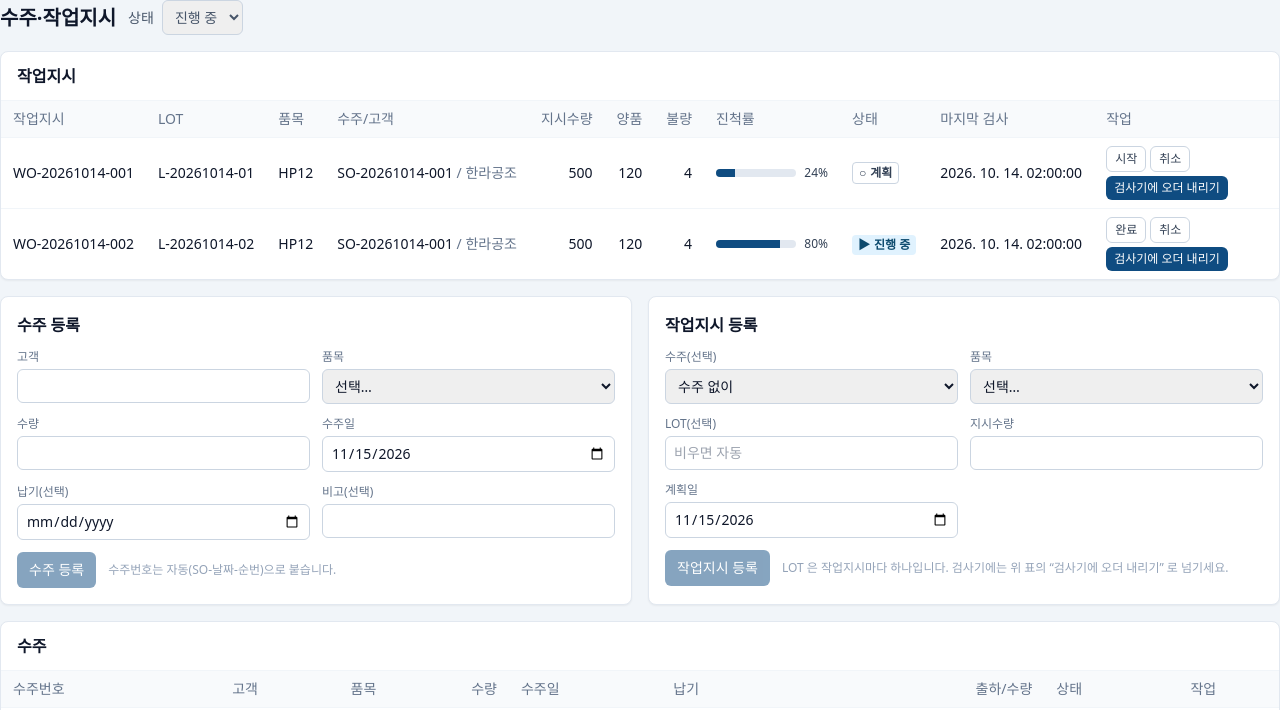
Test case: MesOrdersPage — 등록 › 작업지시 등록: 수주를 고르면 품목·남은 수량이 채워지고, 그 본문으로 POST
Select "SO-20261014-001 · 한라공조 · HP12 500개" in the dropdown with test id "wo-so" at (812, 386), box x1=665 y1=369 x2=958 y2=404
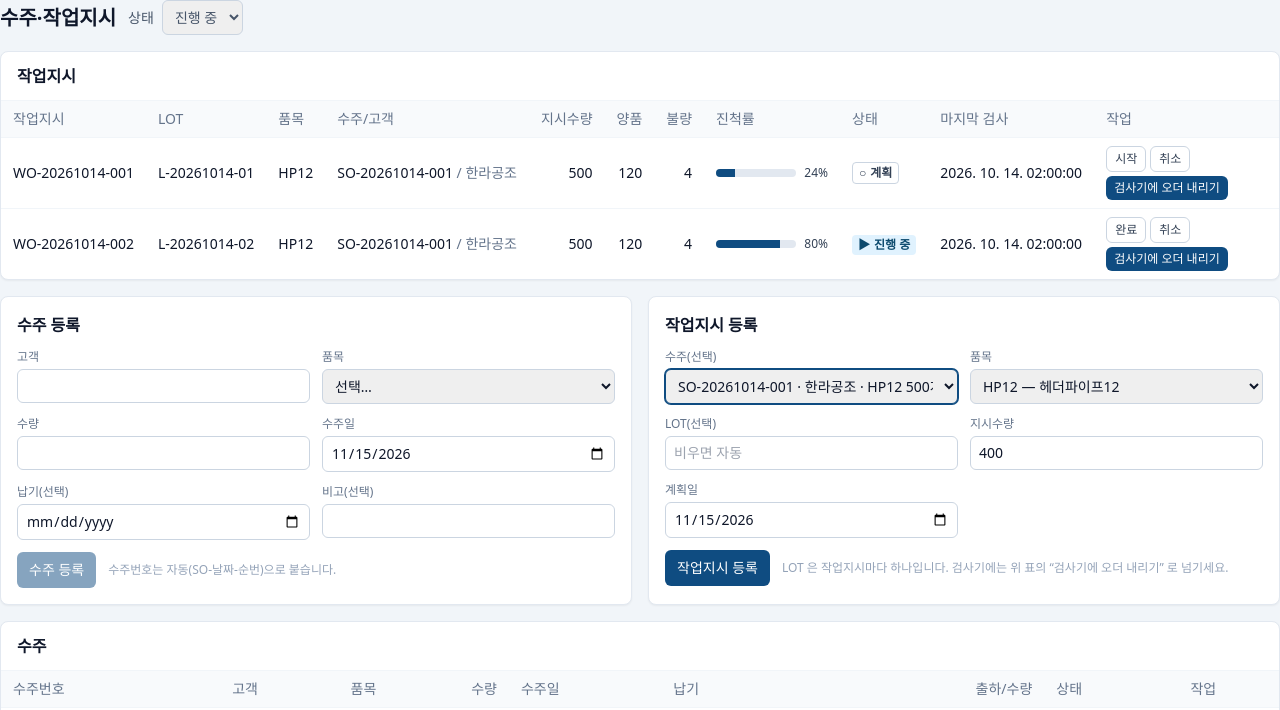
Result: the dropdown with test id "wo-item" shows "HP12 — 헤더파이프12" at x1=970 y1=369 x2=1263 y2=404
Result: the number field labelled "지시수량" holds "400" at x1=970 y1=436 x2=1263 y2=470
Type "L-TEST-01" into the field labelled "LOT(선택)".
click(812, 453); type("L-TEST-01")  # box x1=665 y1=436 x2=958 y2=470
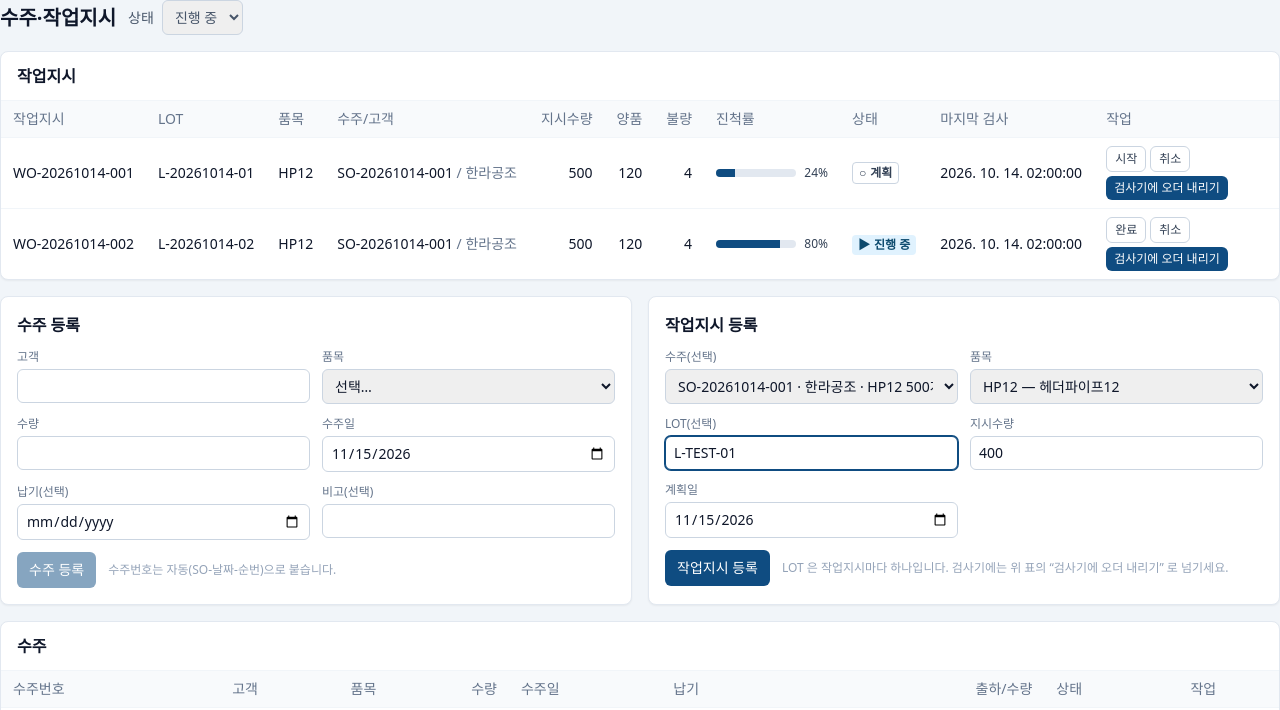
Click the button with test id "wo-submit".
click(717, 568)  # box x1=665 y1=550 x2=770 y2=586
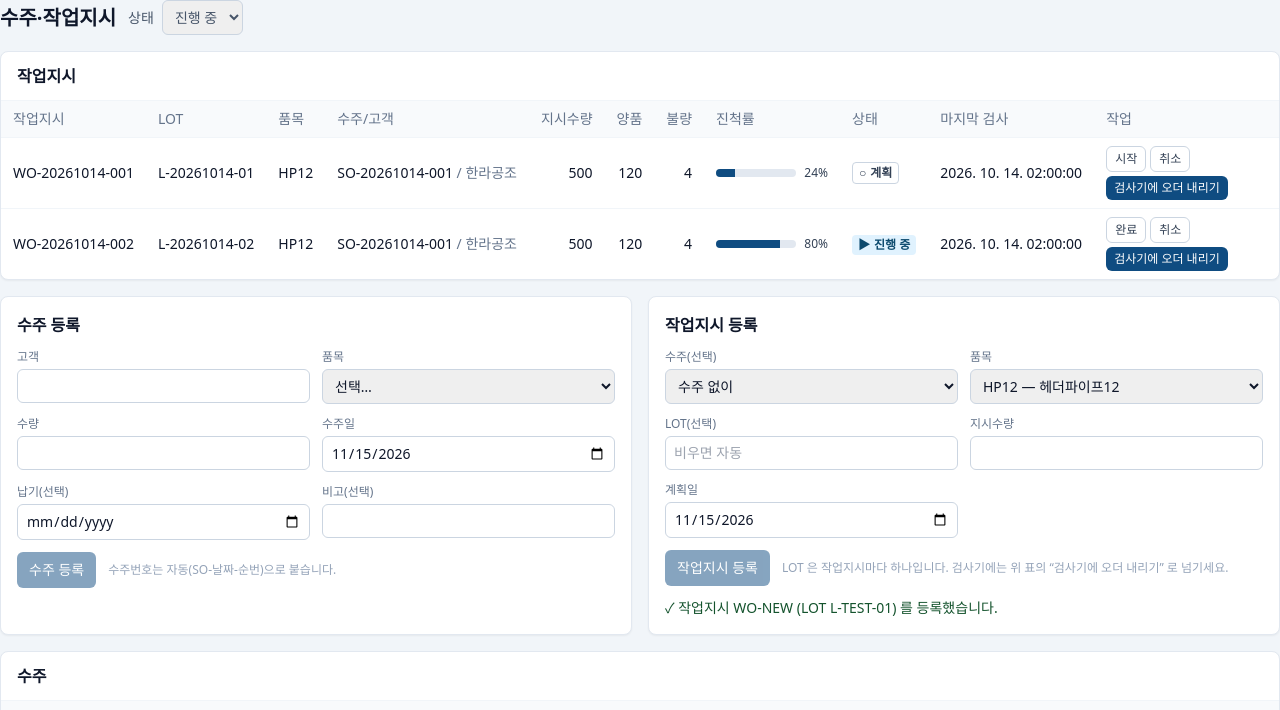
Result: the text "✓ 작업지시 WO-NEW (LOT L-TEST-01) 를 등록했습니다." is shown at x1=665 y1=598 x2=998 y2=617
